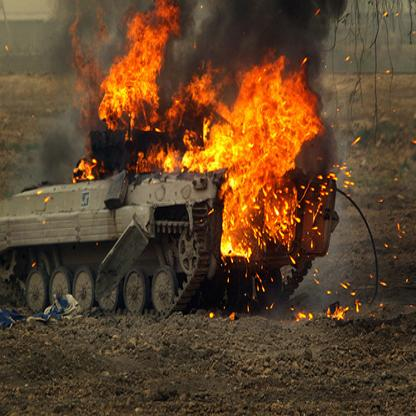Tank: (1, 142, 342, 324)
